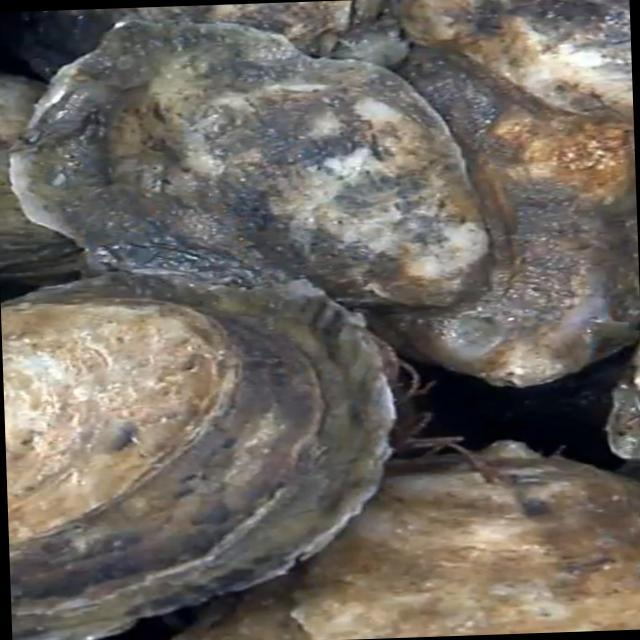Oyster- Indeterminate: (10, 20, 513, 311), (3, 273, 400, 640), (169, 438, 640, 640), (395, 0, 633, 117), (0, 70, 89, 283), (136, 0, 384, 58)
